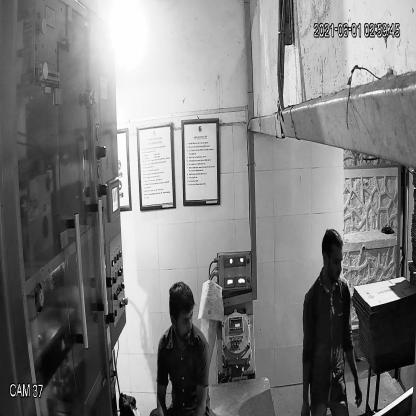no_goggles: (168, 309, 198, 331)
